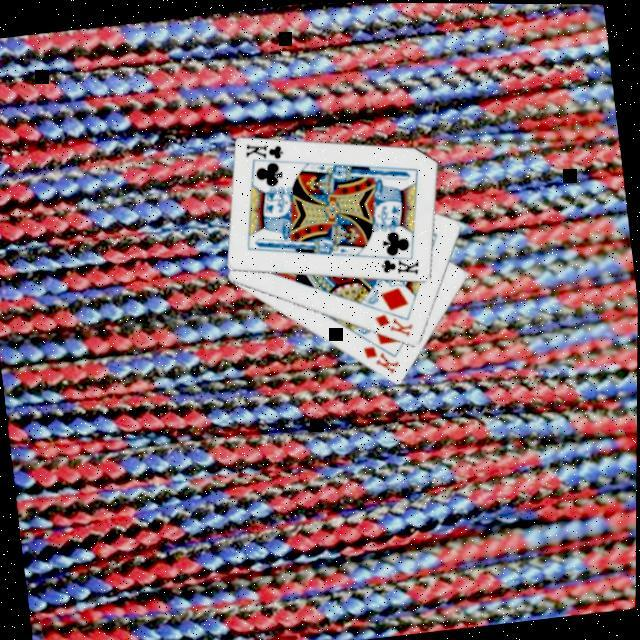KC: (376, 247, 425, 281), (243, 136, 292, 170)
KD: (361, 339, 405, 380), (373, 306, 419, 343)
